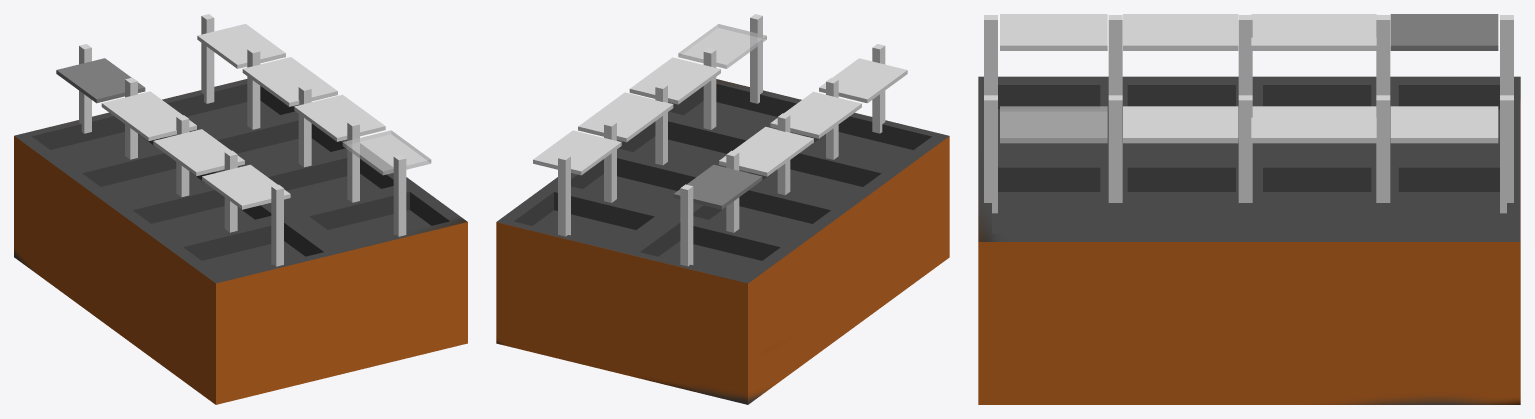
The model's file is buffet.fbx.
The picture shows the model from 3 angles, left to right: view 1: azimuth 30°, elevation 25°; view 2: azimuth 150°, elevation 25°; view 3: azimuth 270°, elevation 25°; orthographic projection. The views are drawn at different scales.
Parts seen in each view (by area): view 1: Cube, Cube.012, Cube.020, Cube.018, Cube.016, Cube.017, Cube.013, Cube.019, Cube.014, Cube.006, Cube.007, Cube.005 (+8 smaller); view 2: Cube, Cube.020, Cube.012, Cube.018, Cube.015, Cube.019, Cube.017, Cube.016, Cube.013, Cube.011, Cube.006, Cube.001 (+7 smaller); view 3: Cube, Cube.012, Cube.020, Cube.015, Cube.018, Cube.013, Cube.016, Cube.019, Cube.017, Cube.014, Cube.005, Cube.002 (+8 smaller).
Part boxes in pixels (<box>): Cube: <box>14,79,467,404</box>; Cube.012: <box>242,57,337,106</box>; Cube.020: <box>101,91,196,141</box>; Cube.018: <box>153,129,244,176</box>; Cube.016: <box>342,130,431,175</box>; Cube.017: <box>202,164,290,209</box>; Cube.013: <box>197,24,285,68</box>; Cube.019: <box>56,58,145,103</box>; Cube.014: <box>295,95,366,136</box>; Cube.006: <box>393,154,406,236</box>; Cube.007: <box>271,184,283,266</box>; Cube.005: <box>347,120,359,202</box>; Cube: <box>496,79,949,404</box>; Cube.020: <box>719,126,813,176</box>; Cube.012: <box>578,92,673,142</box>; Cube.018: <box>770,91,861,138</box>; Cube.015: <box>629,57,720,104</box>; Cube.019: <box>673,164,762,209</box>; Cube.017: <box>819,58,907,103</box>; Cube.016: <box>678,24,766,68</box>; Cube.013: <box>533,130,621,175</box>; Cube.011: <box>680,184,693,266</box>; Cube.006: <box>750,14,762,103</box>; Cube.001: <box>558,154,570,236</box>; Cube: <box>978,76,1520,404</box>; Cube.012: <box>1251,106,1376,143</box>; Cube.020: <box>1251,14,1376,50</box>; Cube.015: <box>1123,106,1238,143</box>; Cube.018: <box>1123,14,1238,50</box>; Cube.013: <box>1390,106,1498,143</box>; Cube.016: <box>1000,106,1107,143</box>; Cube.019: <box>1390,14,1498,50</box>; Cube.017: <box>1000,14,1107,50</box>; Cube.014: <box>1128,106,1235,143</box>; Cube.005: <box>1108,95,1122,202</box>; Cube.002: <box>1376,95,1390,202</box>.
Size of the model in its own units: 261 by 196 by 361.
